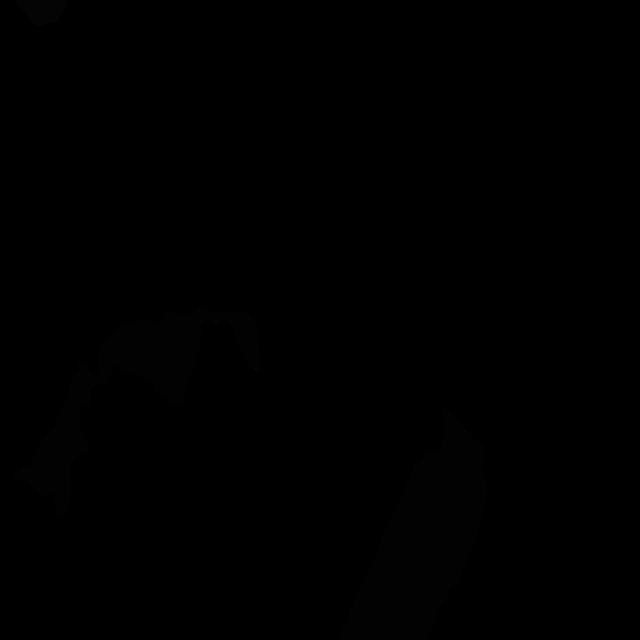cardboard: (338, 405, 488, 640), (98, 307, 262, 404), (13, 363, 100, 516)
soft_plastic: (15, 0, 67, 27)
